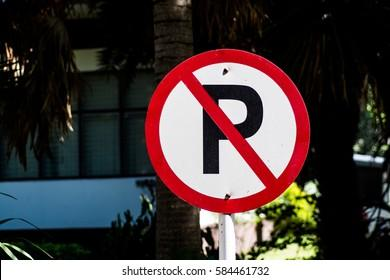No Parking: (143, 43, 313, 214)
